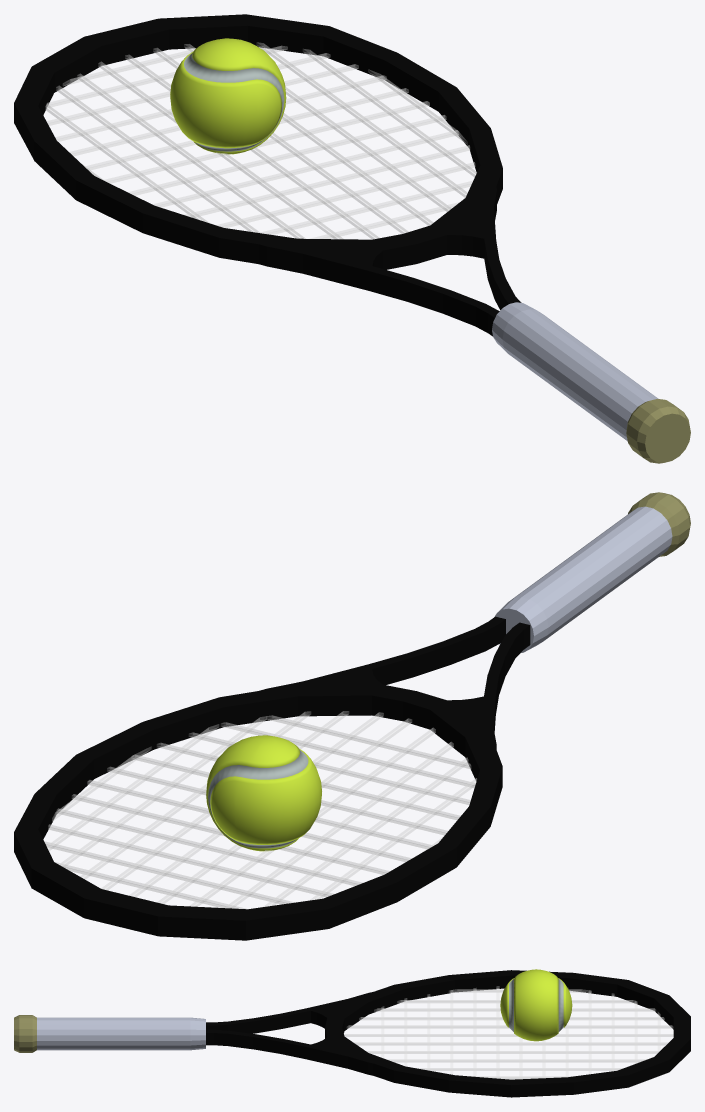
Rendered from Raqueta Idle.fbx.
The picture shows the model from 3 angles, top to bottom: view 1: azimuth 30°, elevation 25°; view 2: azimuth 150°, elevation 25°; view 3: azimuth 270°, elevation 25°; orthographic projection. The views are drawn at different scales.
Visible parts, largest first — view 1: Box001, Sphere; view 2: Box001, Sphere; view 3: Box001, Sphere.
Part boxes in pixels (left/top/right/bottom): Box001: left=14, top=14, right=690, bottom=463; Sphere: left=170, top=38, right=286, bottom=154; Box001: left=14, top=492, right=690, bottom=940; Sphere: left=206, top=735, right=321, bottom=851; Box001: left=14, top=970, right=690, bottom=1097; Sphere: left=500, top=969, right=572, bottom=1041.
Size of the model in its own units: 756 by 223 by 1880.
